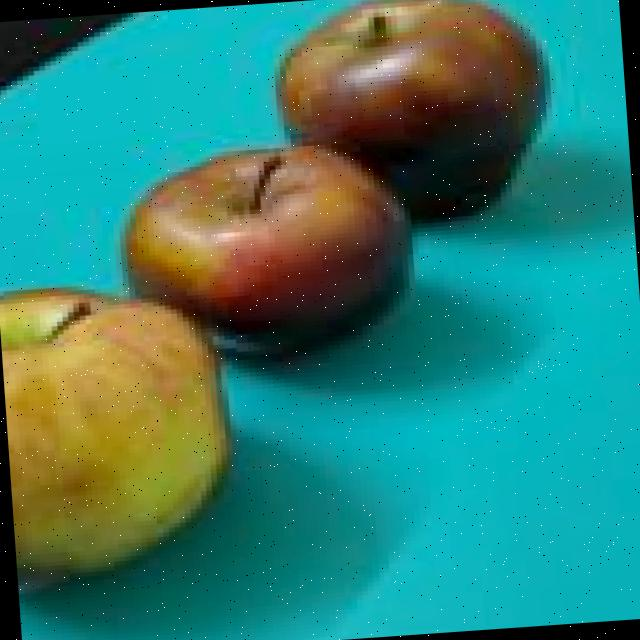Bad_Apple 0-1 day: (0, 0, 546, 579)
